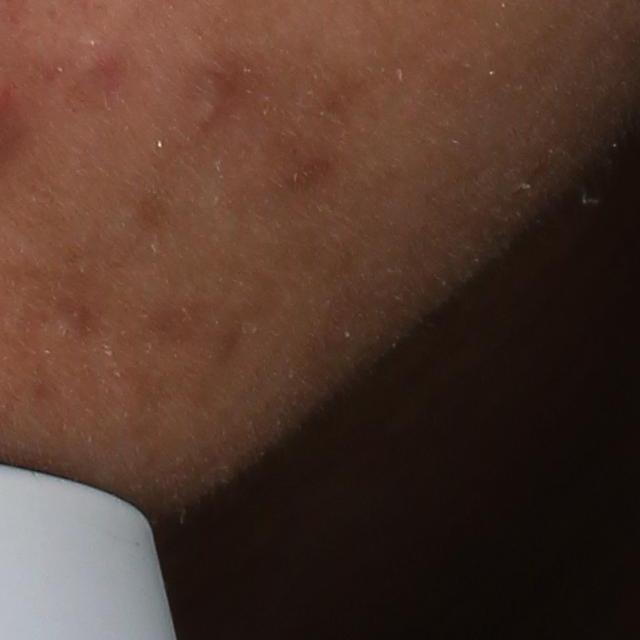comedo: (190, 97, 217, 126)
papule: (55, 26, 131, 114)
